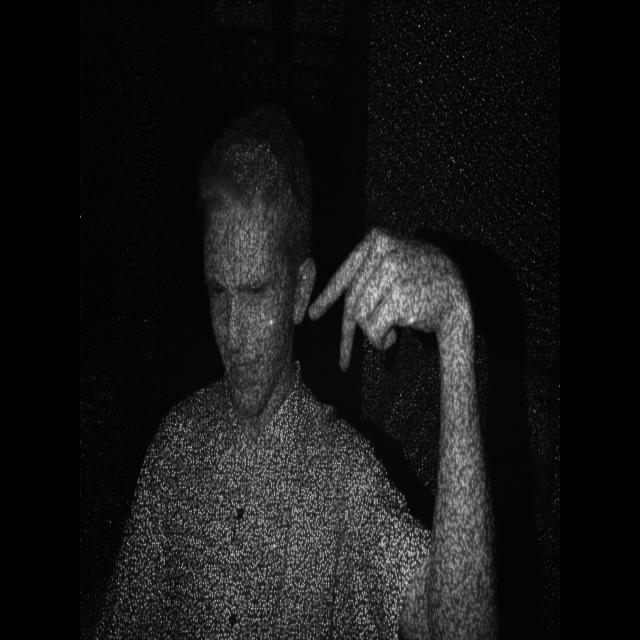P: (300, 216, 423, 386)
